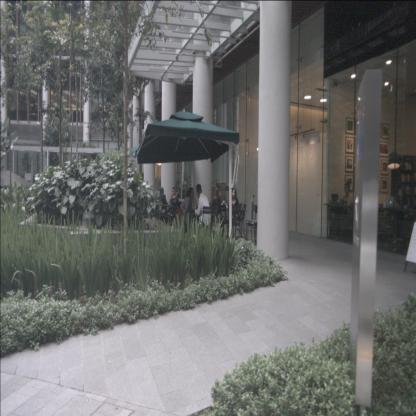human-pedestrian-adult: (194, 184, 211, 246), (335, 183, 352, 241), (180, 187, 197, 242), (210, 187, 226, 237), (227, 189, 239, 236), (158, 187, 169, 230), (168, 187, 178, 226)
